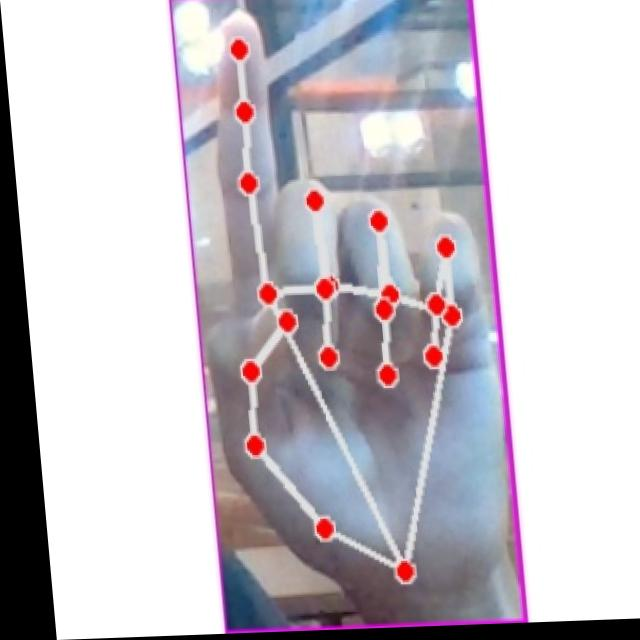D: (174, 0, 504, 602)
